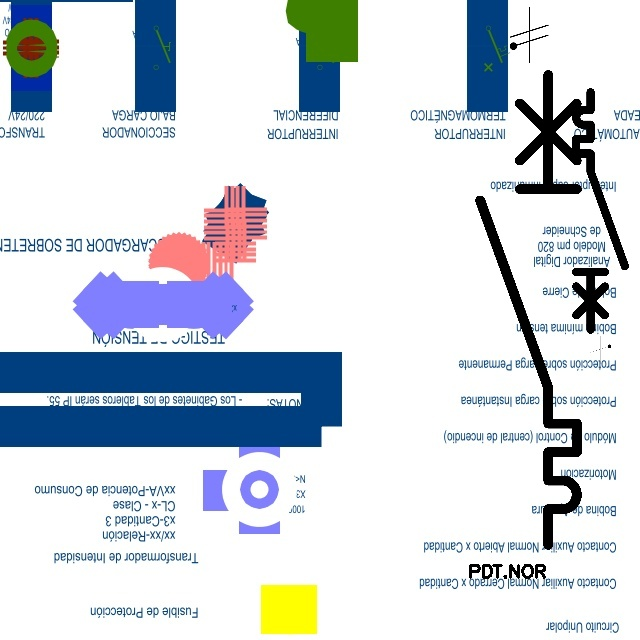interruptor_termomagnetico: (468, 62, 589, 556), (570, 86, 631, 336)
